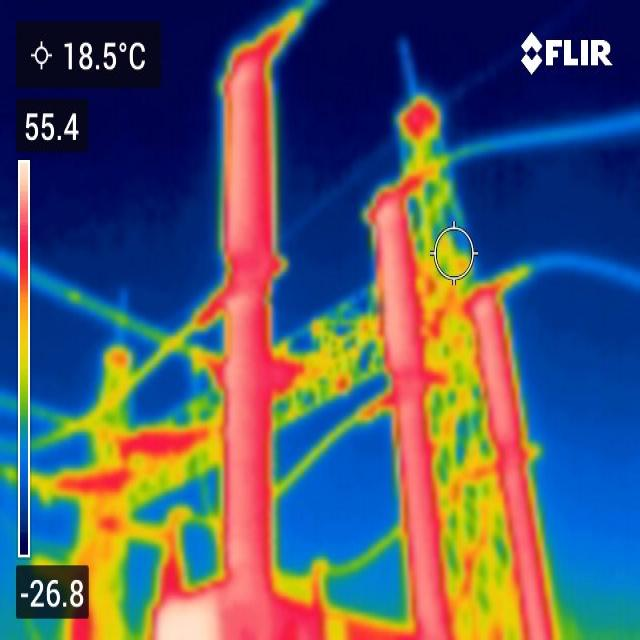Zona_Critica: (253, 60, 320, 635), (121, 433, 207, 455), (60, 469, 127, 494), (404, 101, 437, 137)
Zona_Extrema: (374, 200, 447, 636), (472, 298, 550, 638), (228, 65, 256, 587), (160, 594, 219, 638)
